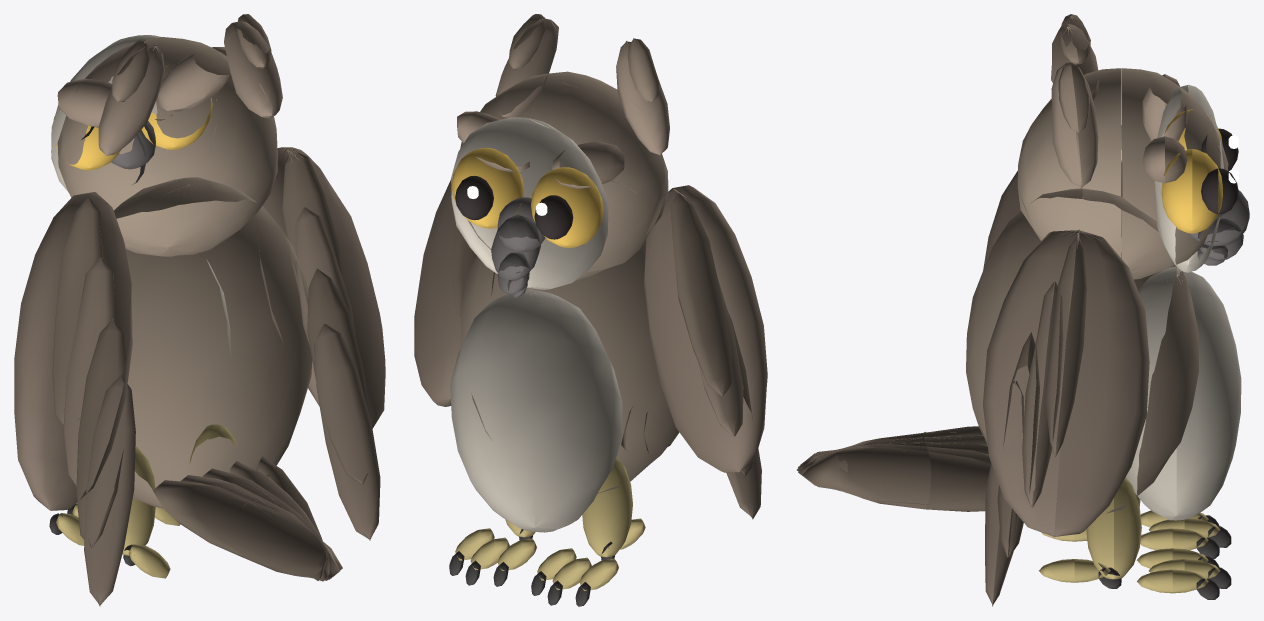
Rendered from enemy_bird.glb.
3 views of the same model, side by side, from view 1: azimuth 30°, elevation 25°; view 2: azimuth 150°, elevation 25°; view 3: azimuth 270°, elevation 25° (orthographic). The views are drawn at different scales.
Visible parts, largest first — view 1: chinchilla; view 2: chinchilla; view 3: chinchilla.
Boxes of the visible parts, x1,y1,x2,y2 form: chinchilla: [14, 14, 385, 606]; chinchilla: [414, 14, 767, 606]; chinchilla: [797, 14, 1249, 606].
Size of the model in its own units: 0.4897 by 0.7442 by 0.5779.
